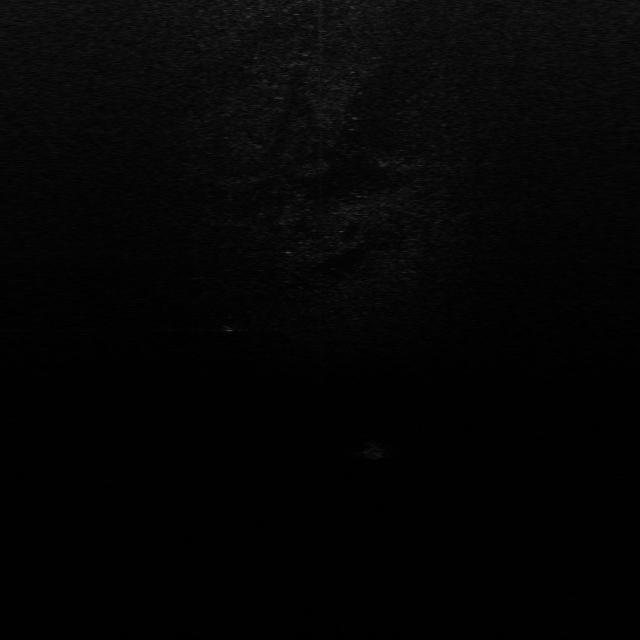ball: (361, 440, 388, 459)
circle cage: (217, 315, 241, 331)
